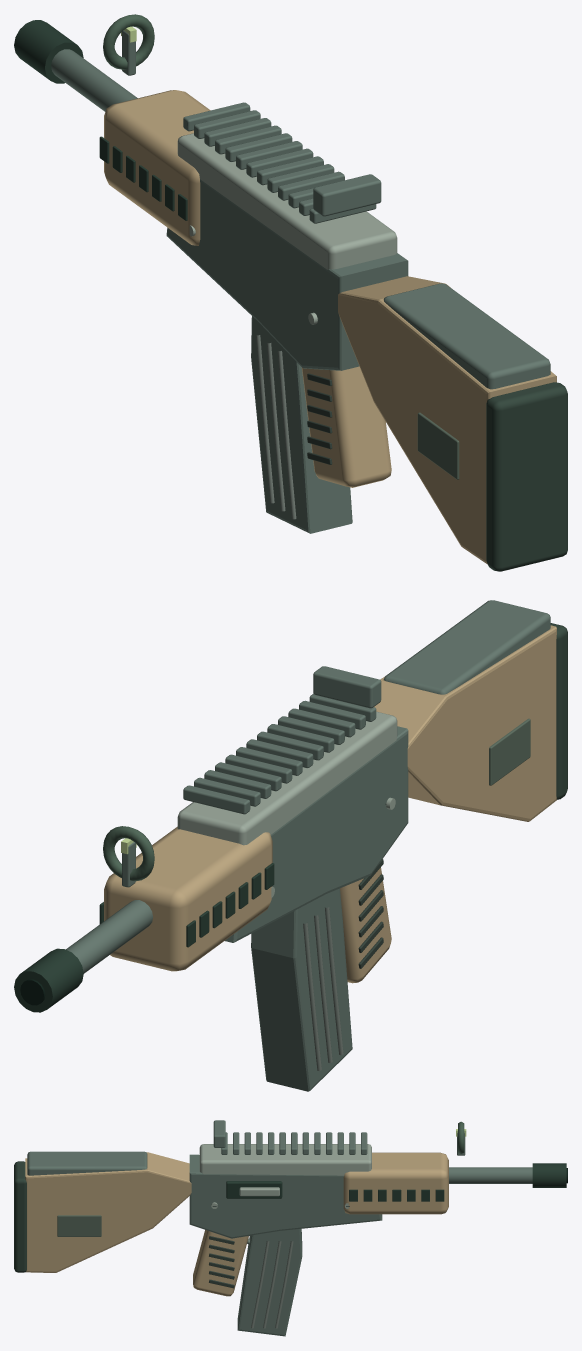
3 views of the same model, one above another, from view 1: azimuth 30°, elevation 25°; view 2: azimuth 150°, elevation 25°; view 3: azimuth 270°, elevation 25° (orthographic). The views are drawn at different scales.
Visible parts, largest first — view 1: m4a4, magazine; view 2: m4a4, magazine; view 3: m4a4, magazine, bolt.
Boxes of the visible parts, x1,y1,x2,y2 form: m4a4: (14, 14, 567, 571); magazine: (251, 316, 352, 533); m4a4: (14, 600, 567, 1012); magazine: (251, 888, 352, 1091); m4a4: (14, 1120, 567, 1296); magazine: (237, 1229, 302, 1336); bolt: (226, 1181, 282, 1198).
Bounding box in the file's own units: 0.1485 × 0.5726 × 1.38.
